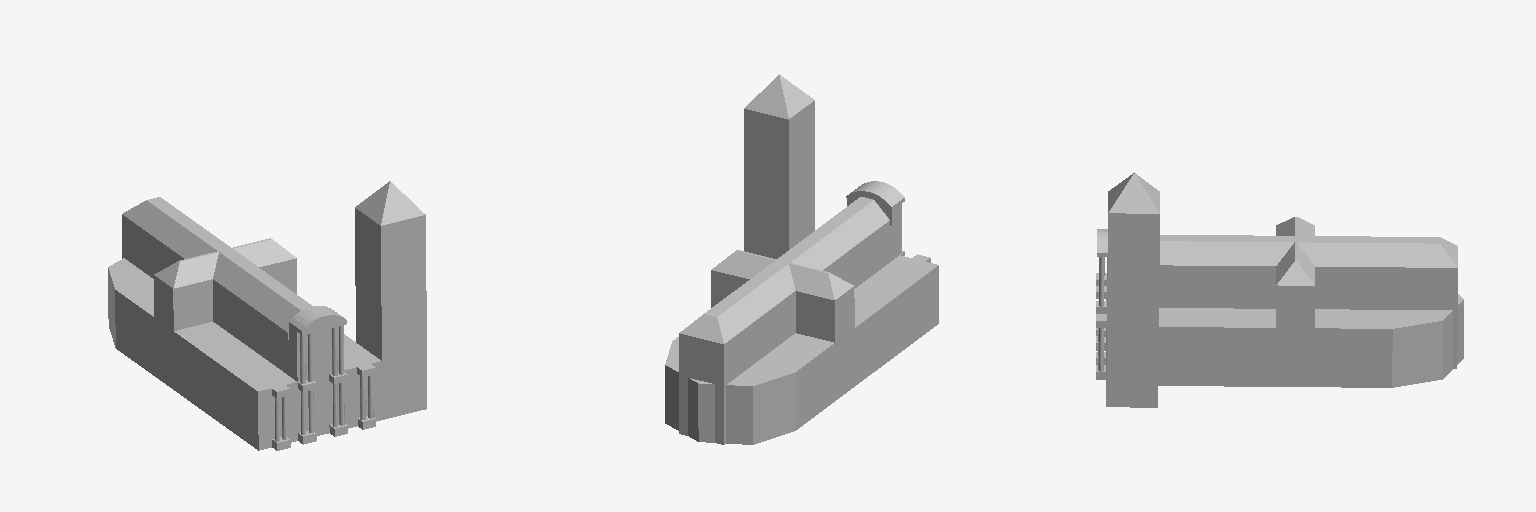
The model's file is cathedrale.obj.
The picture shows the model from 3 angles: view 1: azimuth 30°, elevation 25°; view 2: azimuth 150°, elevation 25°; view 3: azimuth 270°, elevation 25°; orthographic projection.
Parts seen in each view (by area): view 1: cathedrale; view 2: cathedrale; view 3: cathedrale.
Part boxes in pixels (bbox=[...]): cathedrale: bbox=[108, 181, 426, 450]; cathedrale: bbox=[665, 74, 938, 444]; cathedrale: bbox=[1096, 172, 1463, 407].
Bounding box in the file's own units: 37.57 × 48.17 × 70.87.